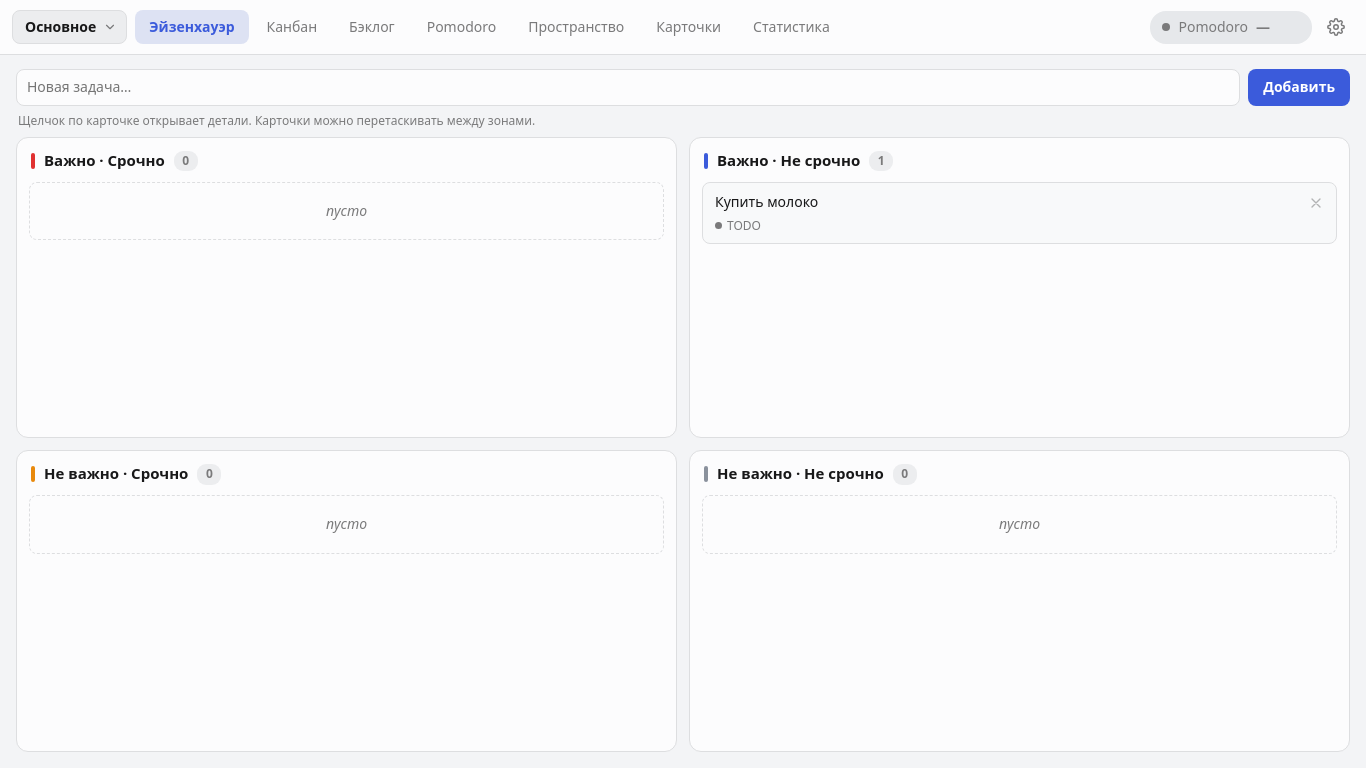
Scenario: App › opens details, adds a checklist item and shows the indicator (F-81, F-85)
Type "Отчёт" into the field named "Заголовок новой задачи" at x=628, y=87, box [16,69,1240,106]
Then press Enter
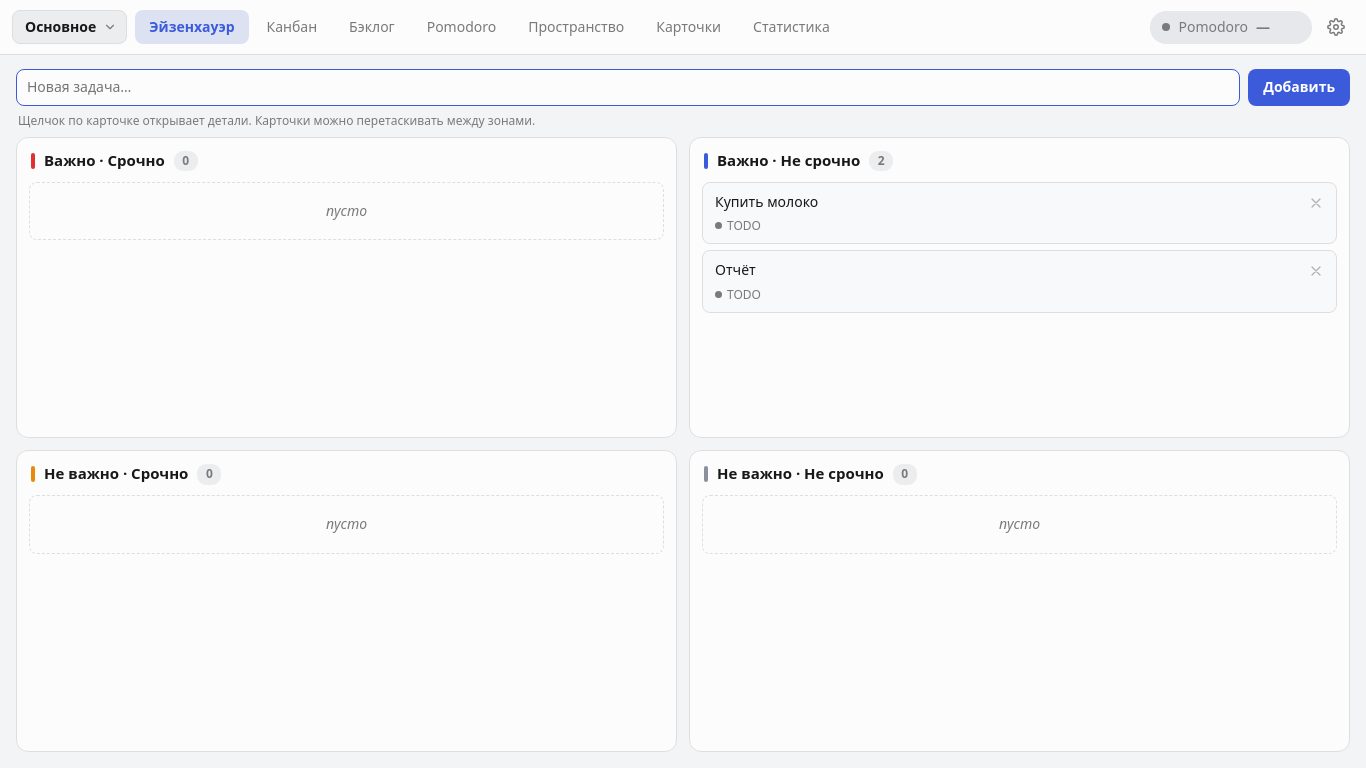
Click the text "Отчёт" at x=735, y=270, box [715,260,756,279]
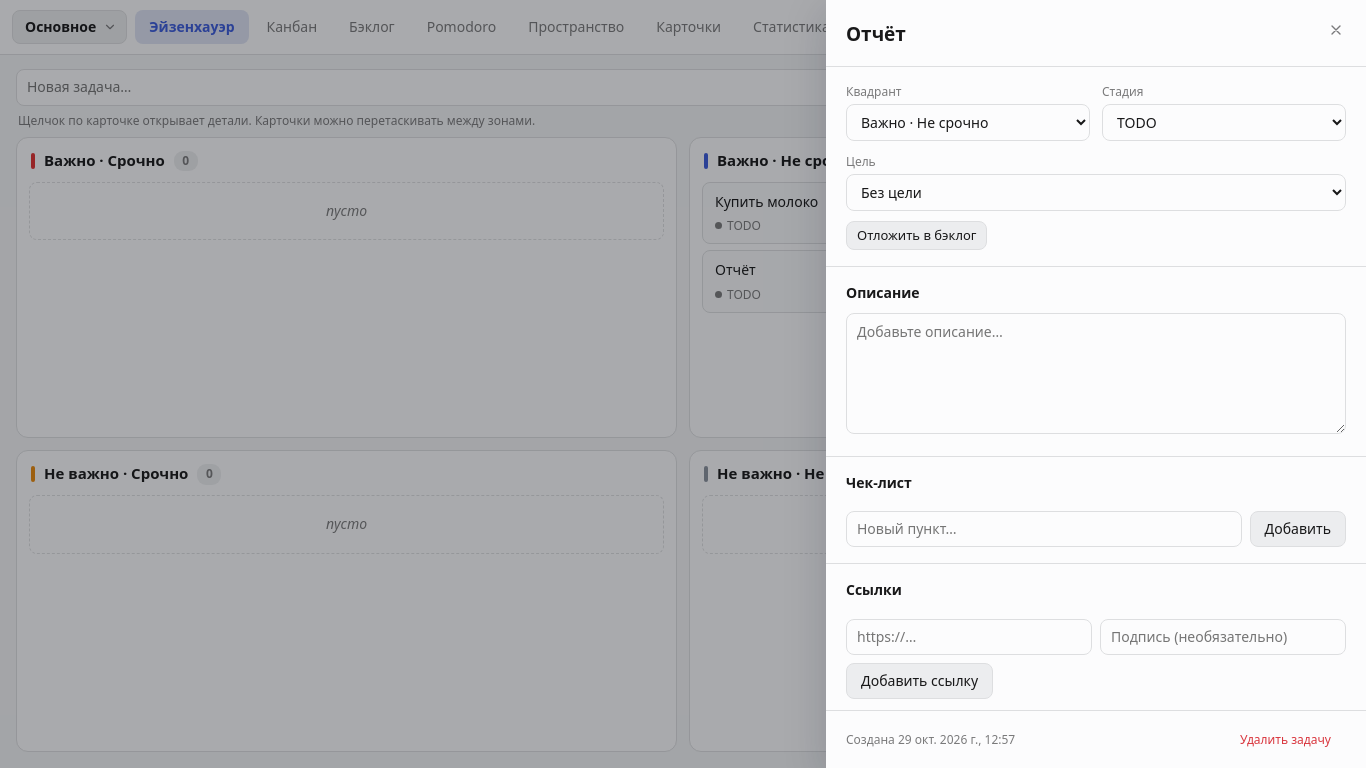
Type "Собрать данные" into the field named "Новый пункт чек-листа" at x=1044, y=529, box [846,511,1242,547]
Then press Enter
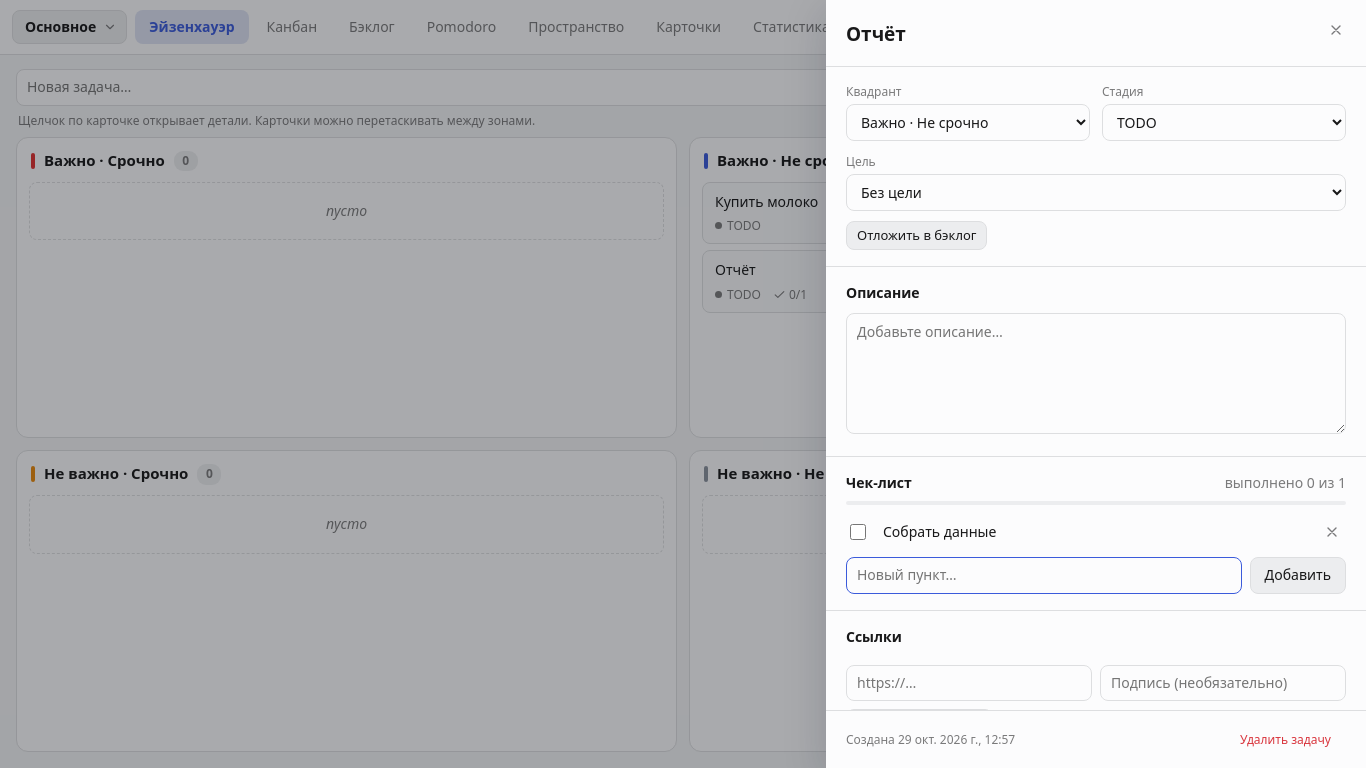
Check: the text "выполнено 0 из 1" is shown, box [1225,473,1346,493]
Press Escape
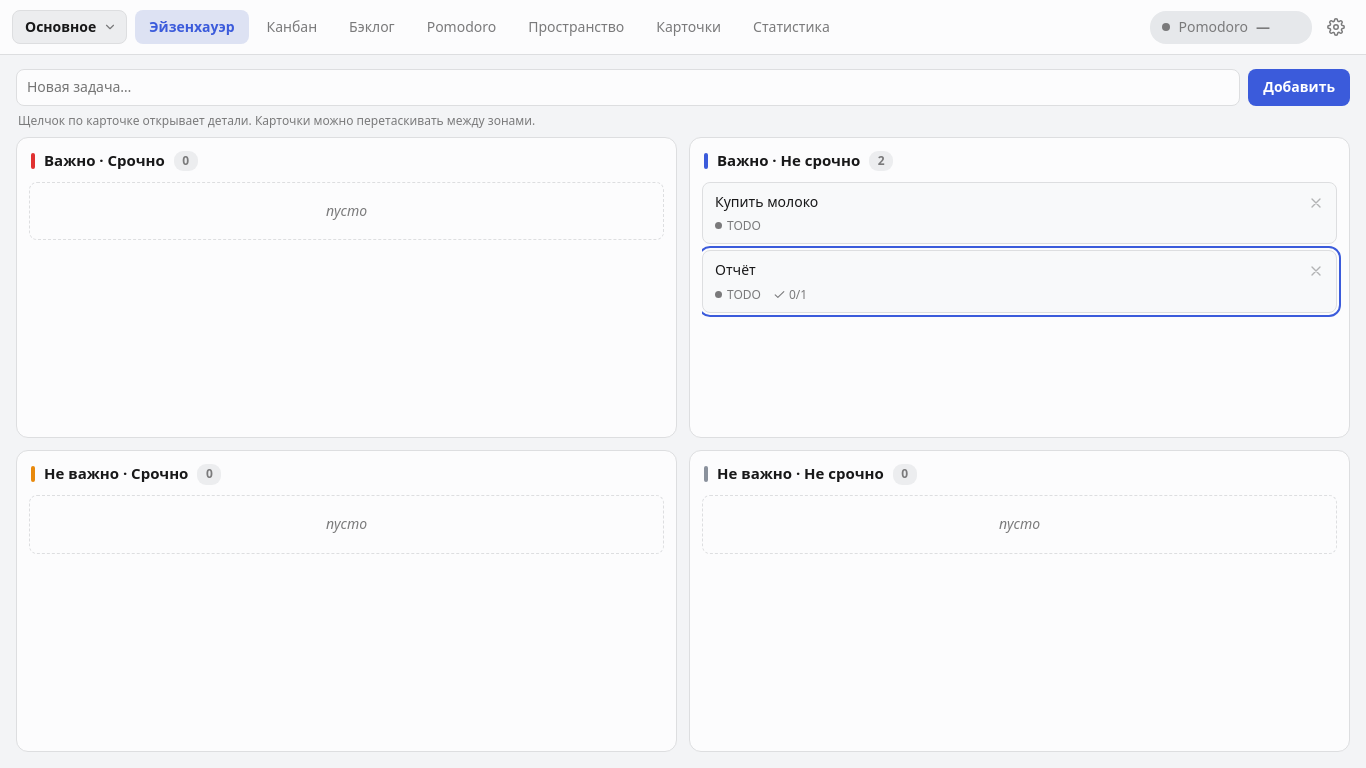
Check: the element titled "Чек-лист: выполнено 0 из 1" reads "0/1", box [773,286,807,303]
Check: the dialog is gone
